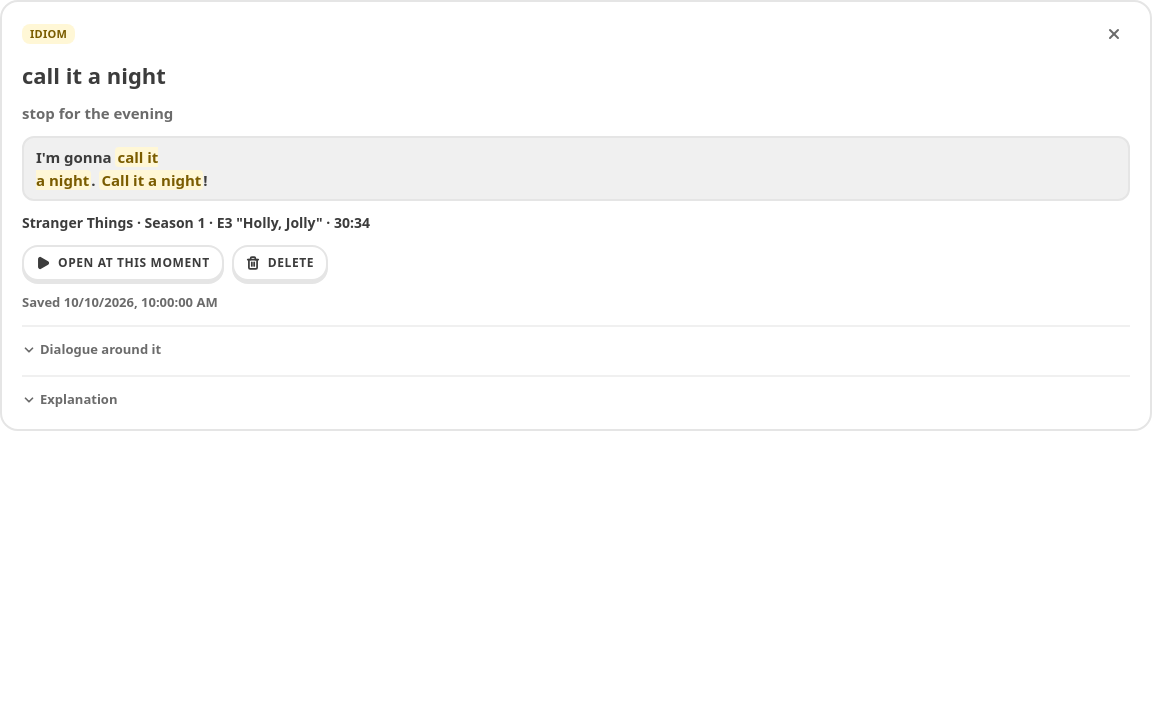
Scenario: StudyLogDetail › loads the explanation, collapsed when the item has a meaning
The width and height of the screenshot is (1152, 720).
Click the button "Explanation" at (70, 400), box [22,390,117,409]
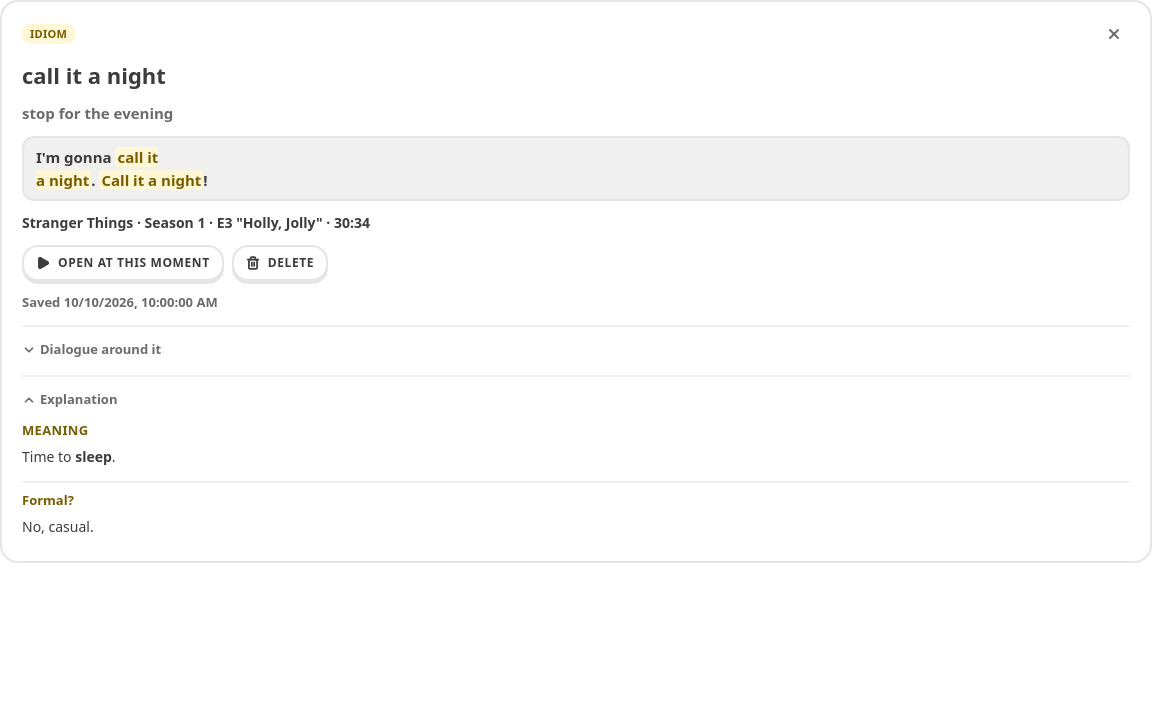
Result: the heading "Meaning" is shown at [22,420,88,438]
Result: the text "Formal?" is shown at [22,491,74,509]
Result: the text "No, casual." is shown at [22,517,94,536]
